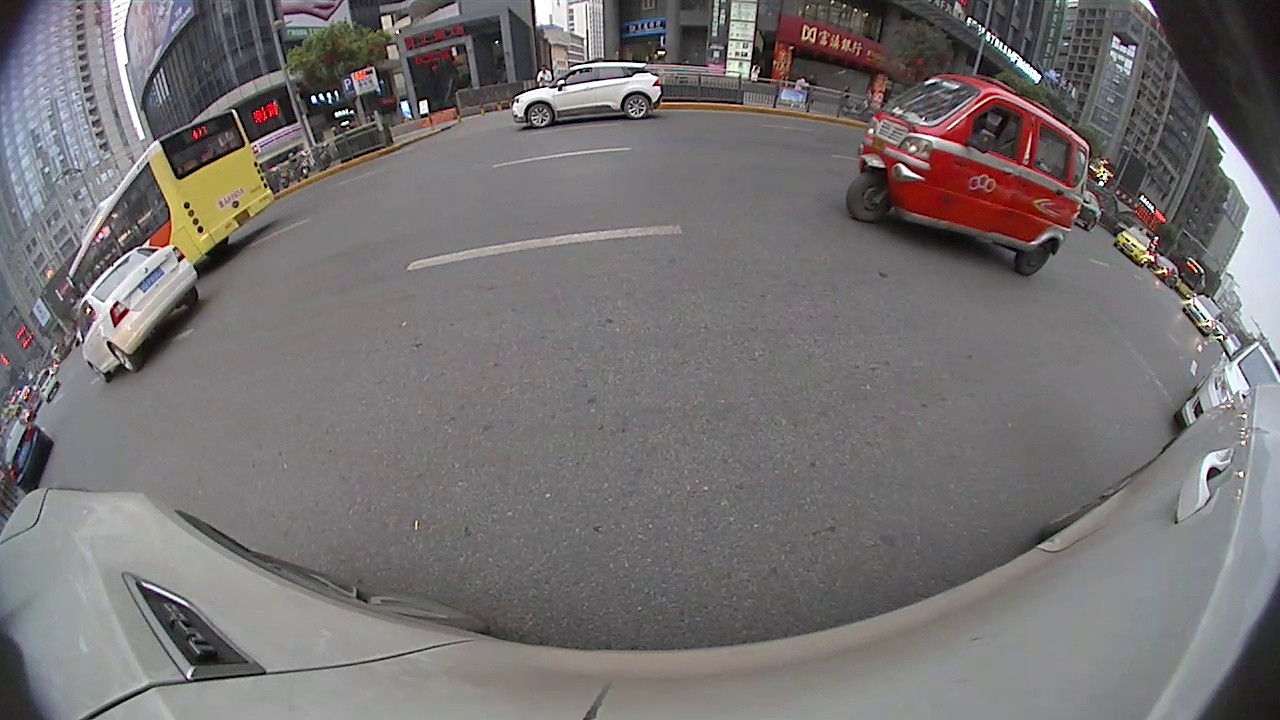bus: (68, 104, 281, 292)
car: (73, 243, 206, 383), (510, 61, 665, 132), (1178, 339, 1279, 431), (1, 414, 57, 495)
front: (847, 169, 894, 226), (526, 103, 554, 130)
rear: (1009, 238, 1057, 280), (108, 341, 139, 375), (622, 93, 654, 122)
rider: (845, 71, 1099, 277)
